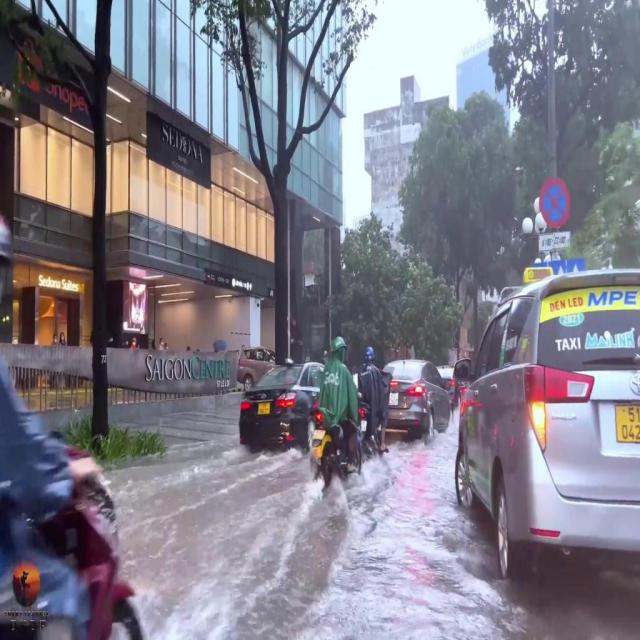cam_dung_xe_va_do_xe: (538, 178, 570, 228)
khac: (539, 232, 570, 251)
